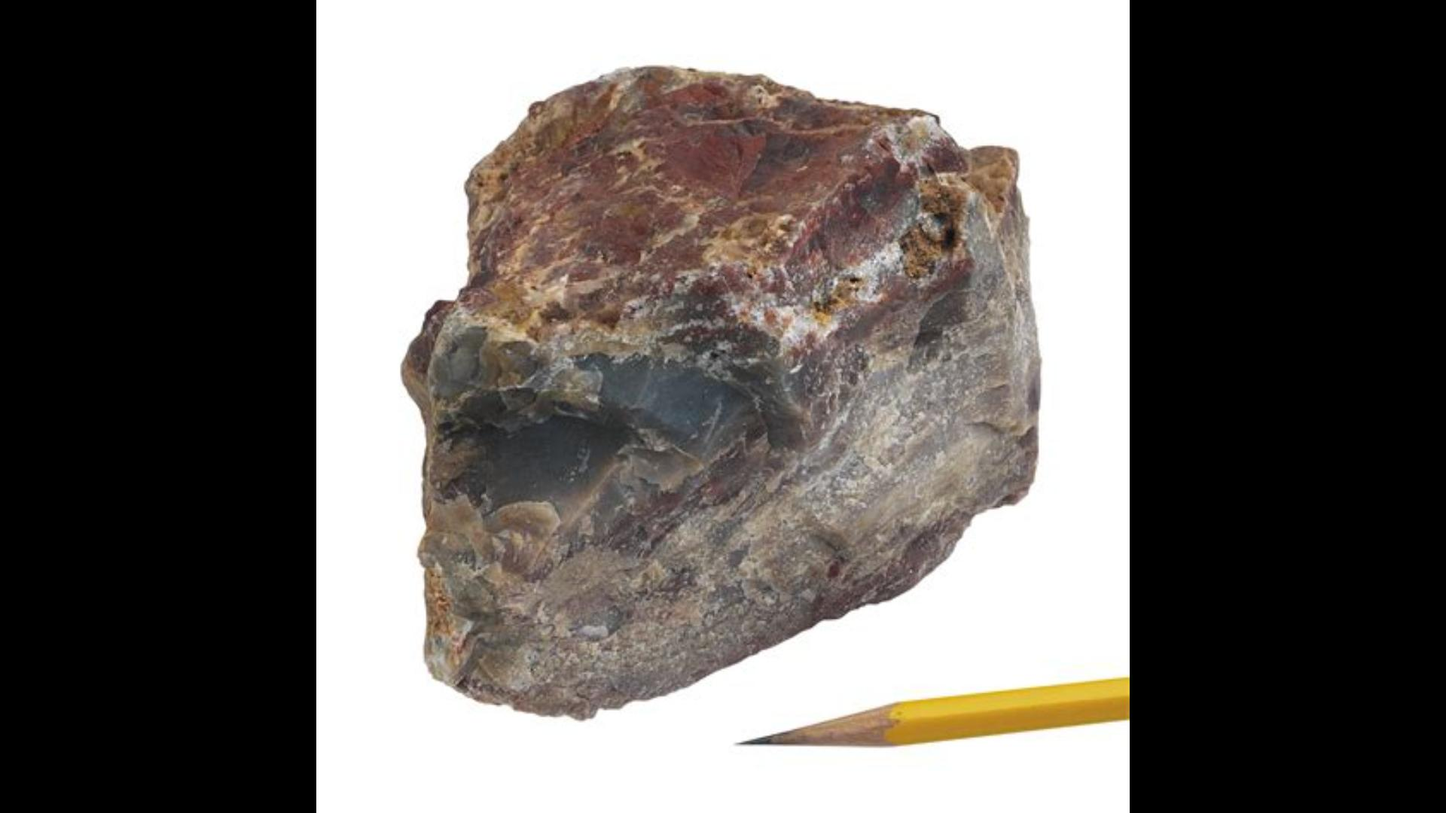rock: (402, 70, 1039, 715)
